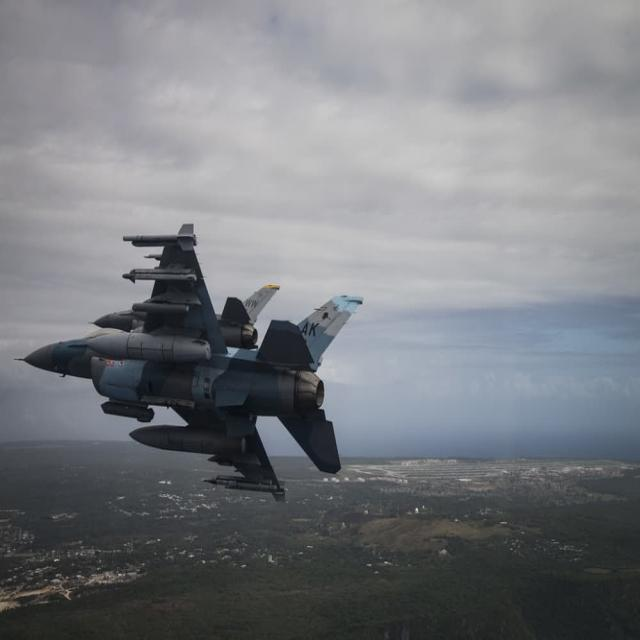MIL_Plane: (13, 222, 364, 502), (87, 254, 281, 350)
